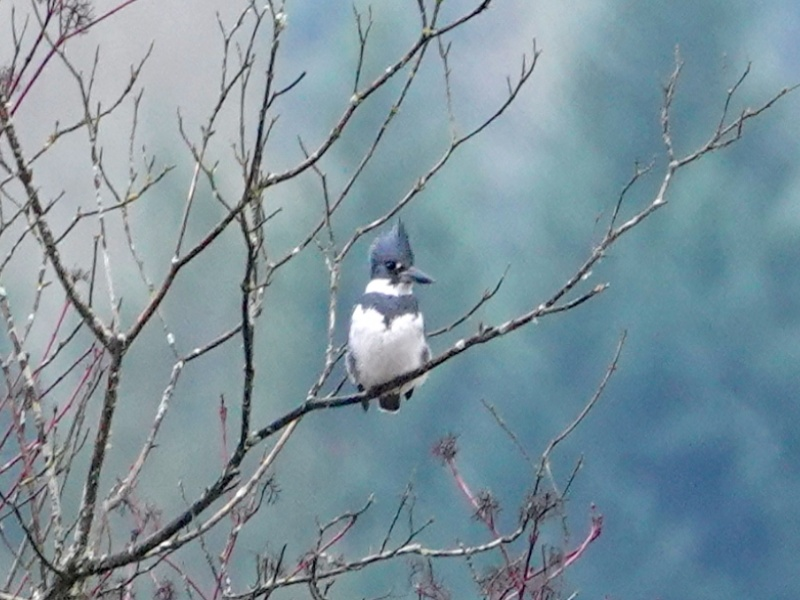kingfisher: (342, 215, 435, 416)
